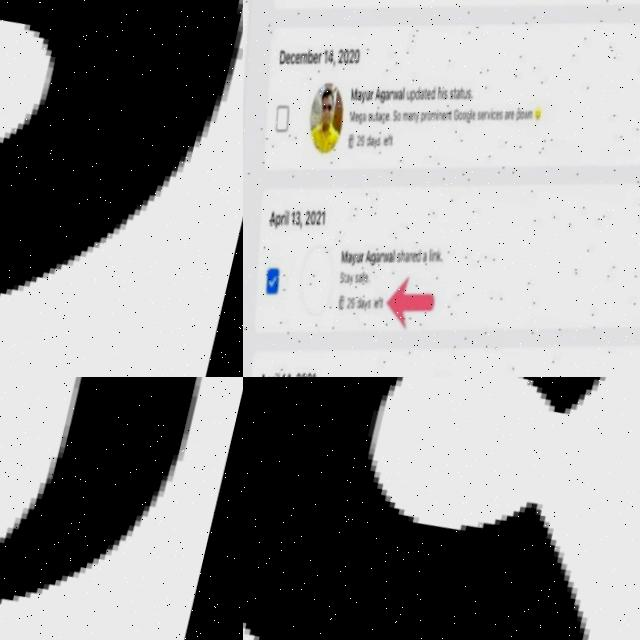0: (340, 51, 351, 69), (351, 50, 362, 68), (308, 212, 319, 229), (298, 373, 309, 377)
1: (321, 51, 330, 68), (318, 212, 327, 229), (288, 213, 297, 228), (278, 373, 287, 377)
2: (335, 51, 346, 69), (346, 50, 357, 67), (313, 212, 324, 229), (302, 212, 313, 228), (344, 299, 353, 313), (354, 137, 363, 150)
3: (292, 212, 303, 229)
4: (325, 51, 336, 69), (282, 372, 294, 377)
9: (358, 137, 367, 151), (348, 299, 357, 313)
C: (243, 377, 640, 640)
D: (0, 377, 243, 640)
O: (0, 0, 243, 377)
